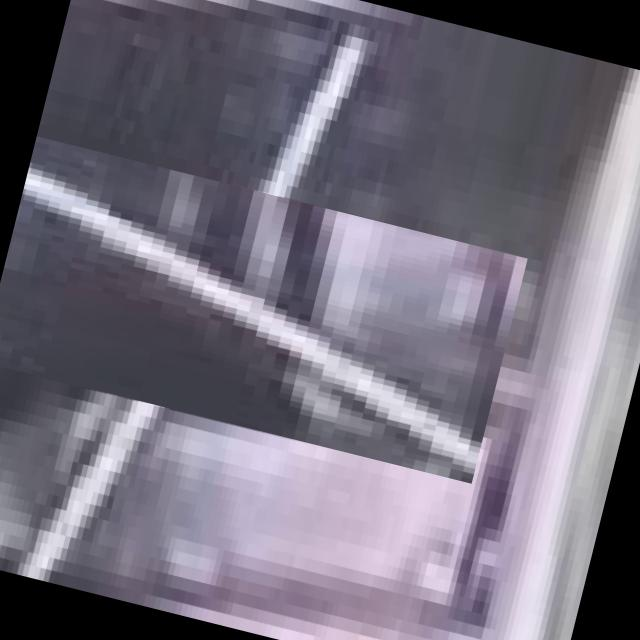stick: (0, 38, 455, 555)
